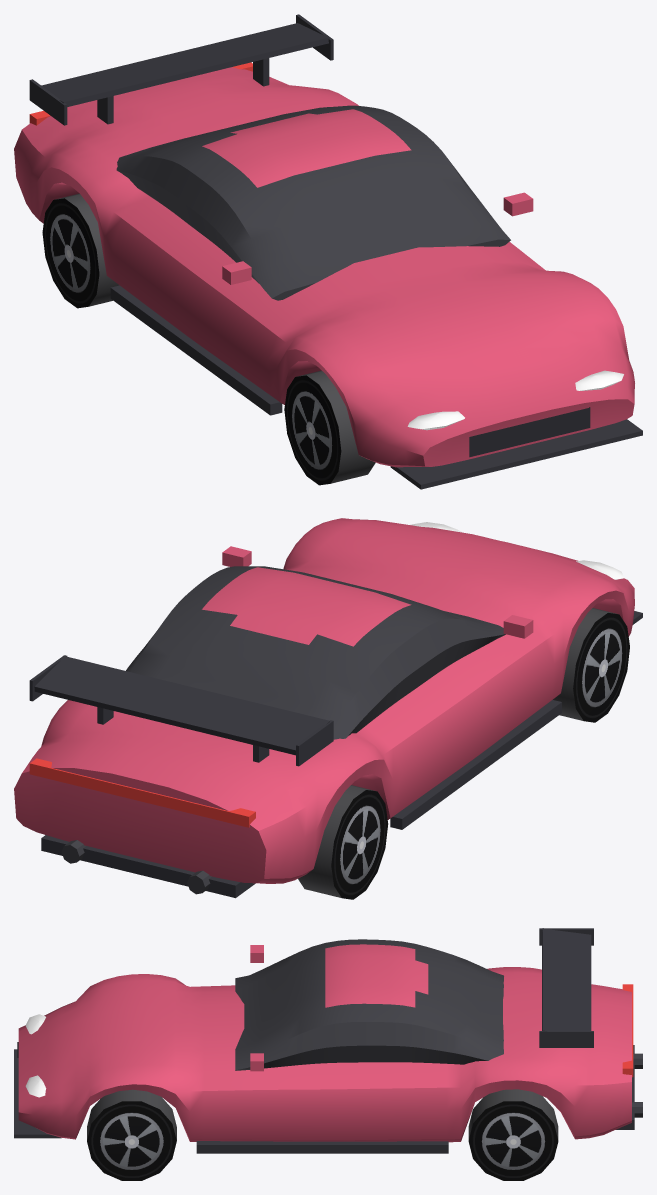
File: car_viper.glb
3 views of the same model, one above another, from view 1: azimuth 30°, elevation 25°; view 2: azimuth 150°, elevation 25°; view 3: azimuth 270°, elevation 25° (orthographic). The views are drawn at different scales.
Visible parts, largest first — view 1: Car; view 2: Car; view 3: Car.
Boxes of the visible parts, x1,y1,x2,y2 form: Car: [14, 14, 642, 489]; Car: [14, 518, 642, 899]; Car: [14, 928, 642, 1180].
Size of the model in its own units: 2.02 by 1.25 by 4.62.
Materials: 3 (1 with a texture image).
